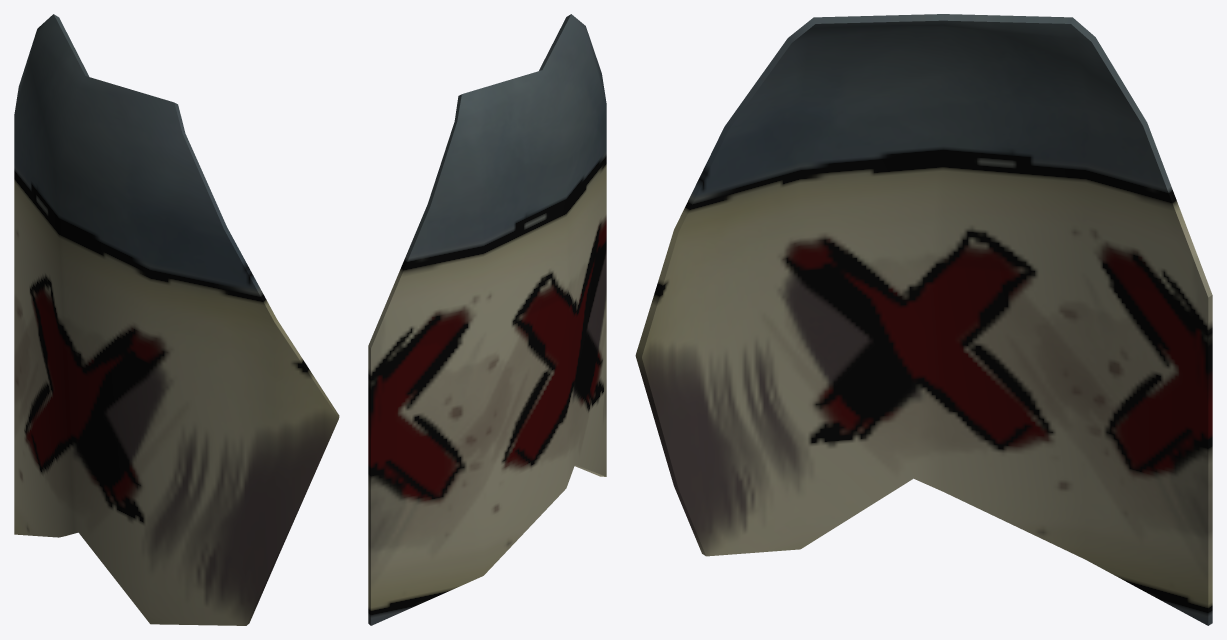
Rendered from jug_gib_8.fbx.
The picture shows the model from 3 angles, left to right: view 1: azimuth 30°, elevation 25°; view 2: azimuth 150°, elevation 25°; view 3: azimuth 270°, elevation 25°; orthographic projection. The views are drawn at different scales.
Visible parts, largest first — view 1: jug_gib_8; view 2: jug_gib_8; view 3: jug_gib_8.
Boxes of the visible parts, x1,y1,x2,y2 form: jug_gib_8: (14,14,339,625); jug_gib_8: (368,14,606,625); jug_gib_8: (635,14,1212,625).
Size of the model in its own units: 45.53 by 170 by 152.
